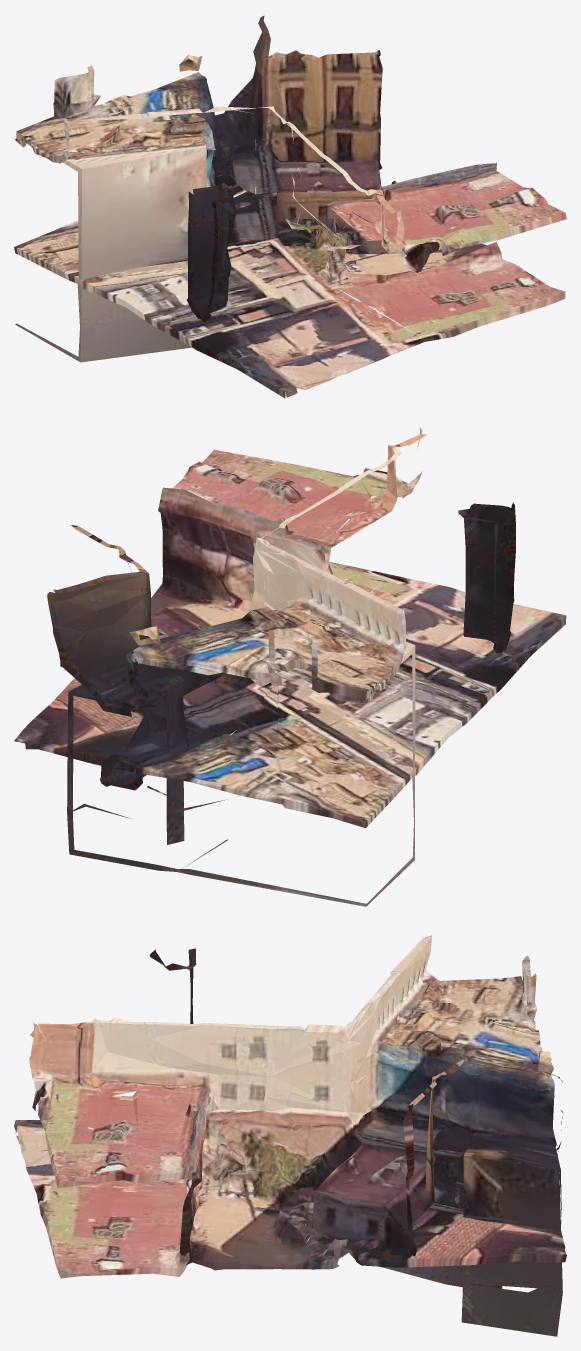
3 renders of one model, top to bottom at view 1: azimuth 30°, elevation 25°; view 2: azimuth 150°, elevation 25°; view 3: azimuth 270°, elevation 25°, orthographic. The views are drawn at different scales.
Parts seen in each view (by area): view 1: Mesh_0; view 2: Mesh_0; view 3: Mesh_0.
Boxes of the visible parts, x1,y1,x2,y2 form: Mesh_0: [14, 15, 566, 398]; Mesh_0: [14, 427, 566, 906]; Mesh_0: [14, 935, 566, 1336].
Bounding box in the file's own units: 33.34 × 22.19 × 41.22.
Materials: 1 (1 with a texture image).
